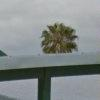Palm tree: (34, 18, 84, 57)
